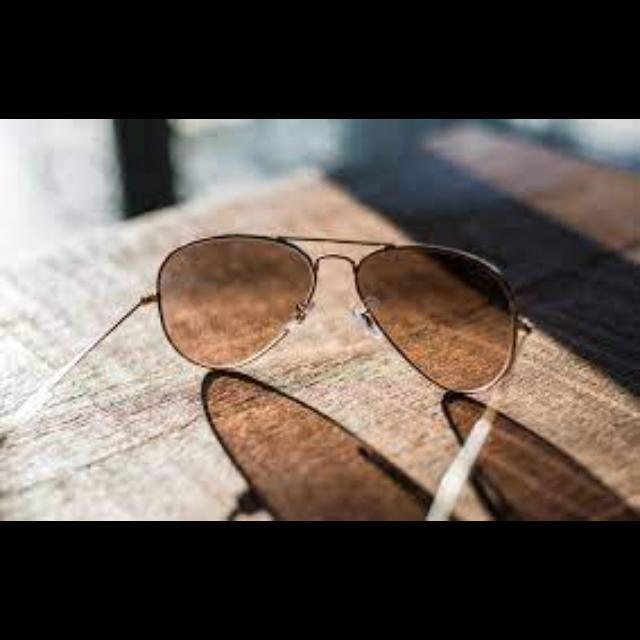sunglasses: (1, 231, 536, 521)
